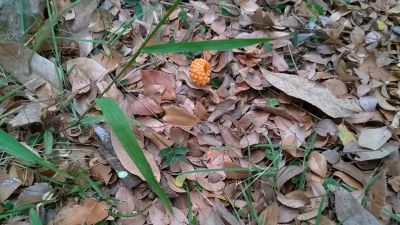eggs: (187, 54, 214, 85)
